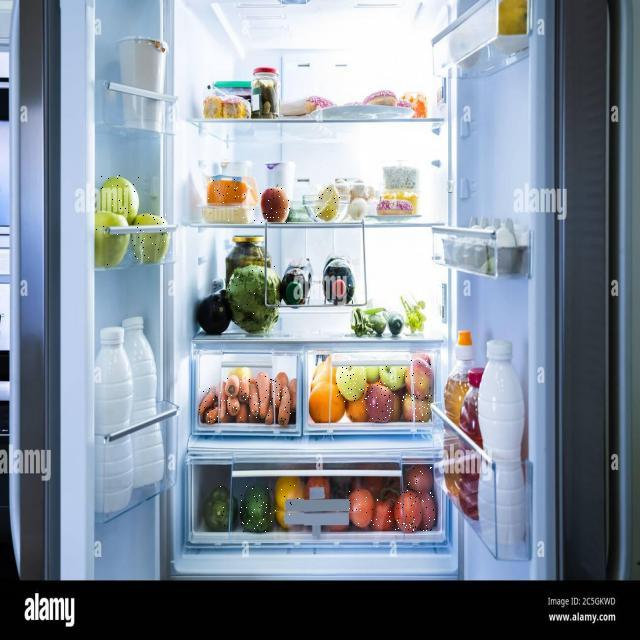apple: (95, 209, 130, 268), (131, 213, 171, 262), (101, 176, 139, 222), (404, 358, 434, 398), (336, 366, 367, 402), (260, 186, 290, 223), (366, 384, 395, 421), (402, 394, 431, 422), (378, 366, 404, 390)
carrot: (256, 373, 270, 418), (200, 388, 218, 414), (280, 389, 292, 425), (249, 384, 260, 416), (270, 379, 282, 407), (226, 375, 240, 397), (218, 381, 226, 419), (239, 376, 250, 401), (237, 403, 248, 423), (227, 398, 239, 415), (207, 408, 218, 423)
cheese: (199, 205, 256, 224), (206, 179, 248, 203)
green bell pepper: (204, 486, 239, 531), (240, 486, 272, 532)
lemon: (313, 185, 341, 219)
lettuce: (228, 266, 283, 335)
tomato: (395, 490, 423, 532), (349, 489, 374, 527), (406, 465, 434, 497), (374, 495, 394, 529), (422, 494, 436, 531)
yellow bell pepper: (274, 478, 304, 530)
